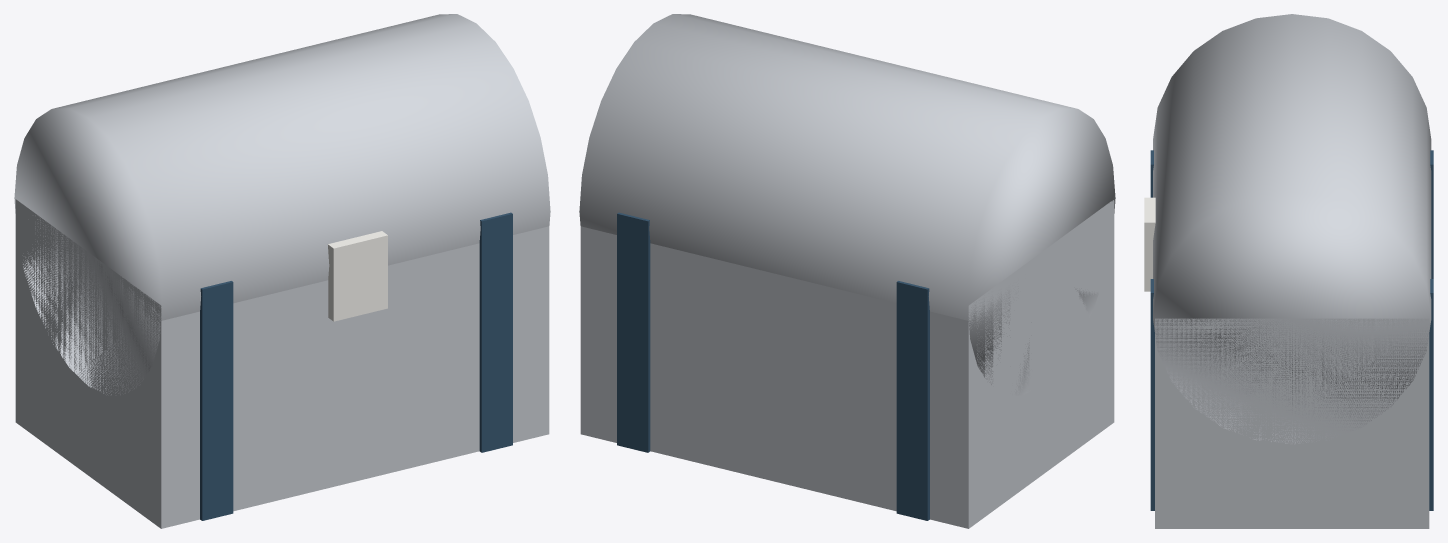
Rendered from chest_silver.glb.
The picture shows the model from 3 angles, left to right: view 1: azimuth 30°, elevation 25°; view 2: azimuth 150°, elevation 25°; view 3: azimuth 270°, elevation 25°; orthographic projection. The views are drawn at different scales.
Bounding box in the file's own units: 1 × 0.88 × 0.685.
